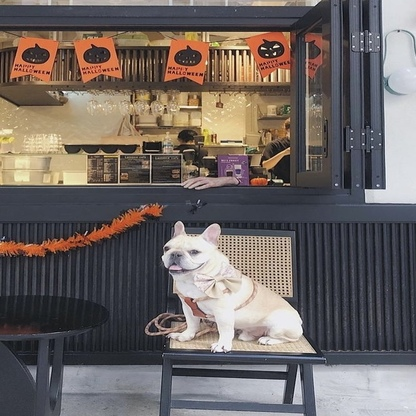bulldog: (160, 219, 306, 356)
